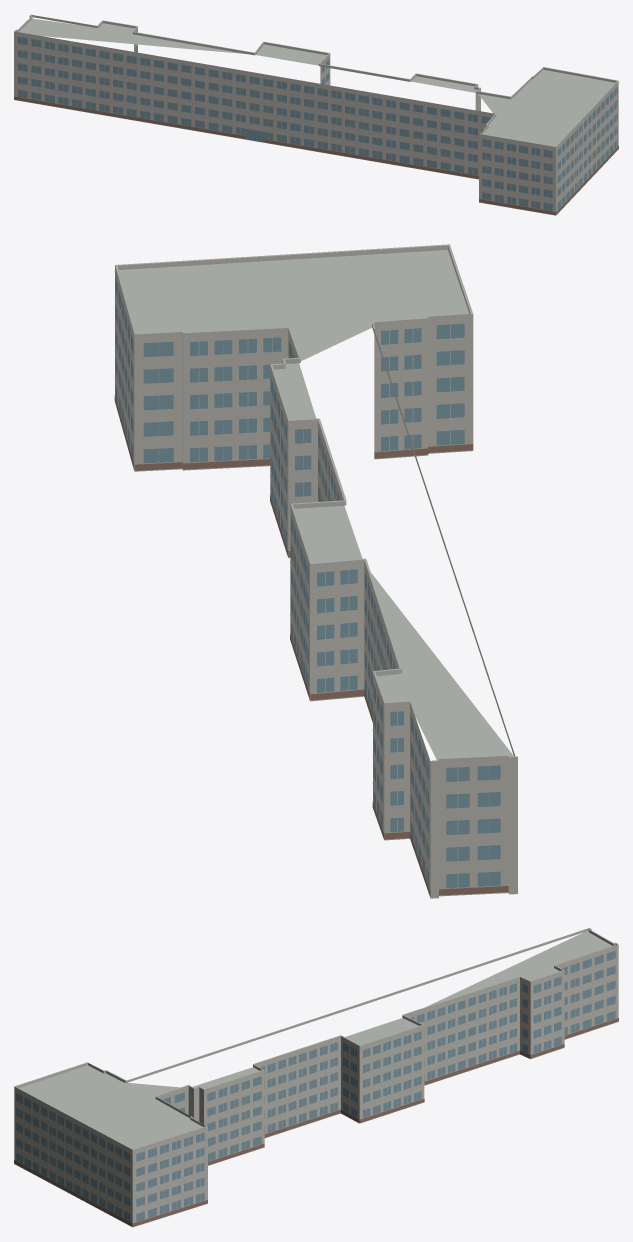
File: public-175fc20a-cbfd-405b-97e0-6ac492e24b5b.glb
3 renders of one model, top to bottom at view 1: azimuth 30°, elevation 25°; view 2: azimuth 150°, elevation 25°; view 3: azimuth 270°, elevation 25°, orthographic. The views are drawn at different scales.
Parts seen in each view (by area): view 1: public-175fc20a-cbfd-405b-97e0-6ac492e24b5b; view 2: public-175fc20a-cbfd-405b-97e0-6ac492e24b5b; view 3: public-175fc20a-cbfd-405b-97e0-6ac492e24b5b.
Part boxes in pixels (x1,y1,x2,y2): public-175fc20a-cbfd-405b-97e0-6ac492e24b5b: (14,14,618,215); public-175fc20a-cbfd-405b-97e0-6ac492e24b5b: (114,244,517,898); public-175fc20a-cbfd-405b-97e0-6ac492e24b5b: (14,928,618,1227).
Size of the model in its own units: 123 by 20 by 141.
